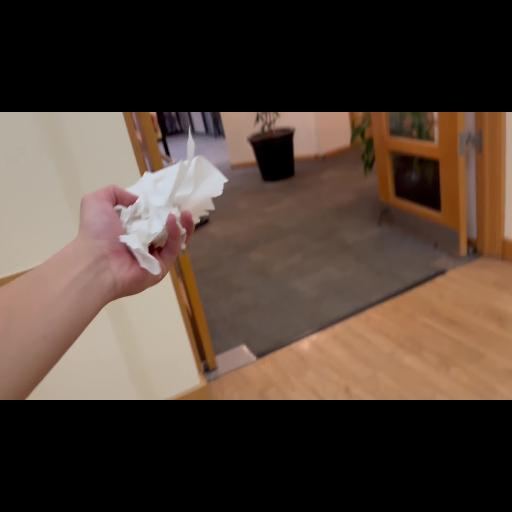napkin: (107, 124, 233, 282)
